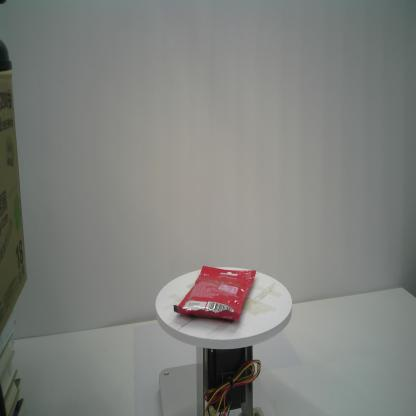Candy: (173, 264, 257, 324)
